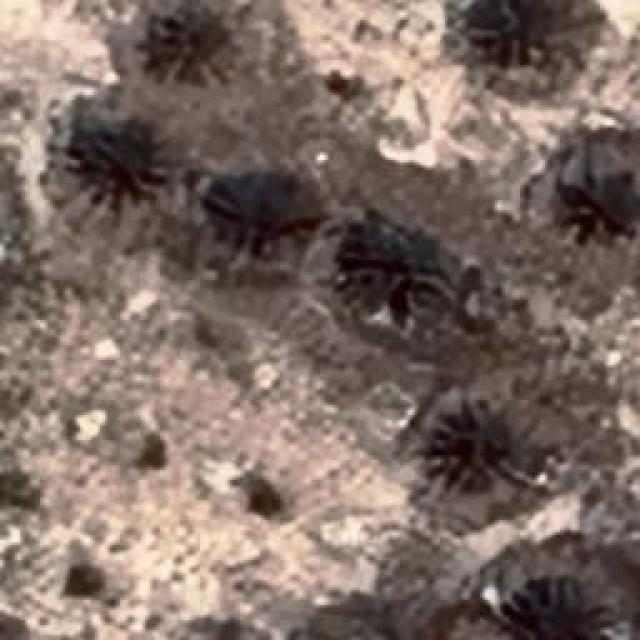PalmTree: (40, 100, 150, 218), (132, 0, 250, 85), (346, 216, 449, 312), (204, 168, 308, 258), (462, 0, 580, 72), (500, 570, 610, 640), (562, 151, 636, 251), (435, 400, 513, 490)
